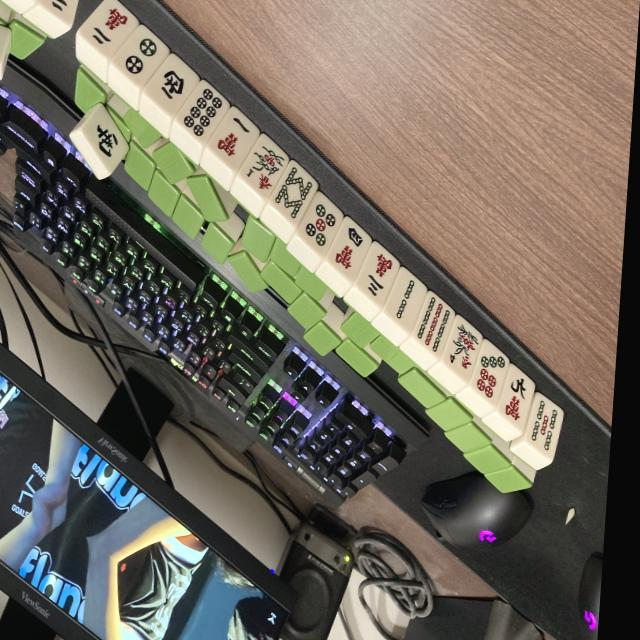ff1: (234, 138, 294, 200)
ff4: (436, 320, 489, 380)
m1: (203, 109, 265, 172)
m2: (74, 1, 142, 63), (32, 0, 84, 25)
m3: (348, 244, 404, 306)
m4: (321, 219, 376, 281)
m9: (489, 368, 540, 430)
s2: (378, 270, 433, 328)
s5: (518, 395, 568, 459)
s8: (265, 161, 323, 223)
s9: (407, 294, 462, 356)
south: (72, 104, 131, 177)
t2: (108, 25, 172, 91)
t5: (294, 193, 350, 254)
t7: (464, 342, 516, 404)
t8: (173, 80, 234, 144)
west: (142, 52, 203, 116)
